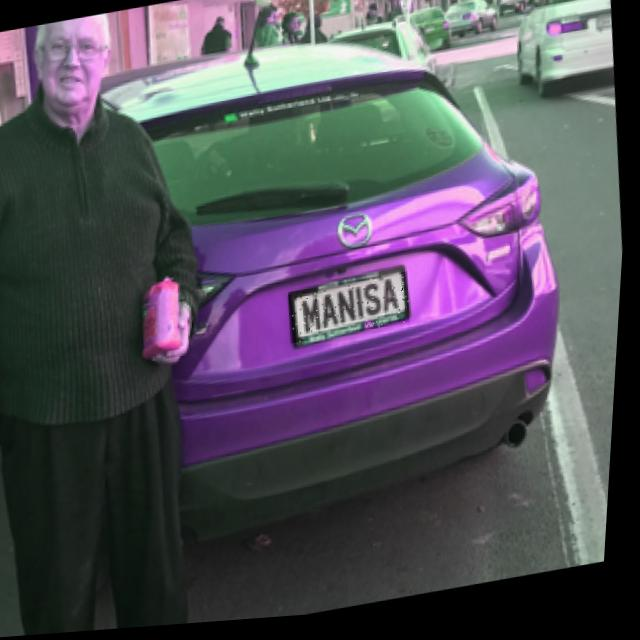license_plate: (289, 277, 416, 348)
